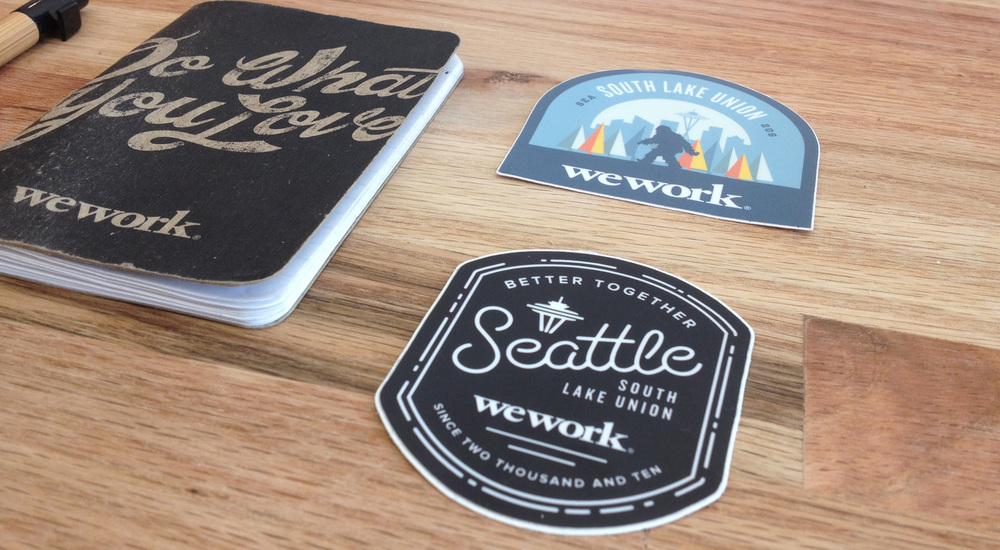wework: (556, 159, 744, 221), (10, 181, 196, 240), (469, 390, 629, 454)
